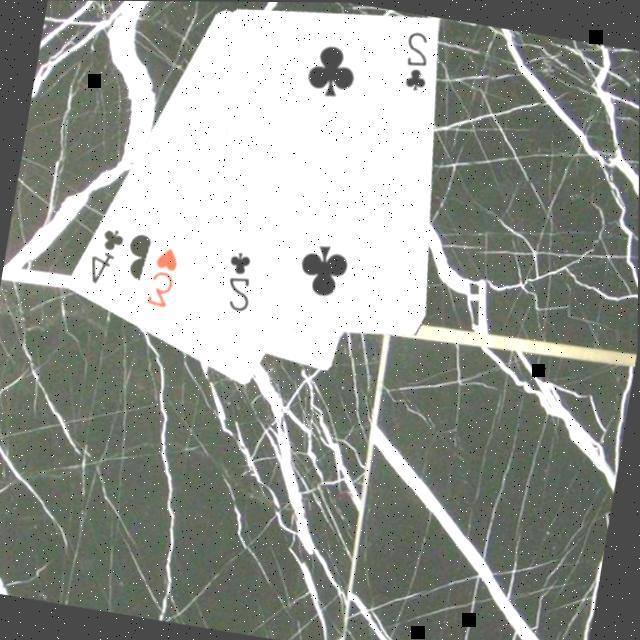2C: (218, 248, 260, 318), (396, 28, 437, 98)
3H: (143, 243, 183, 314)
4C: (83, 224, 129, 292)
